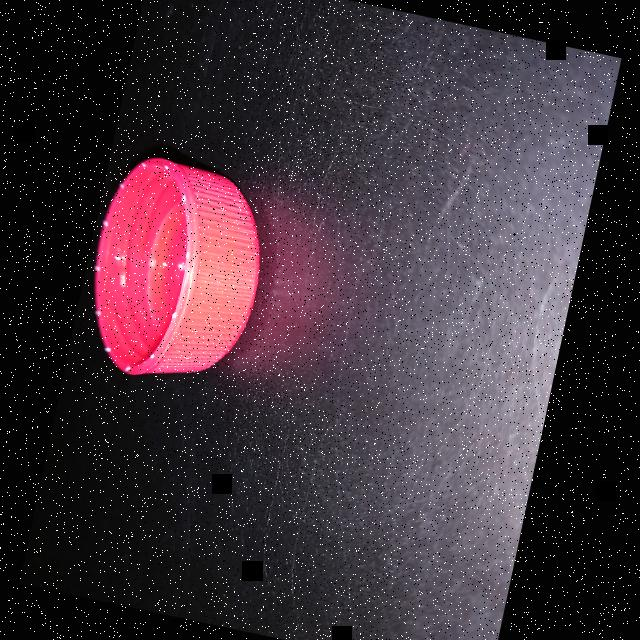plastic_bottle_cap: (70, 147, 280, 397)
